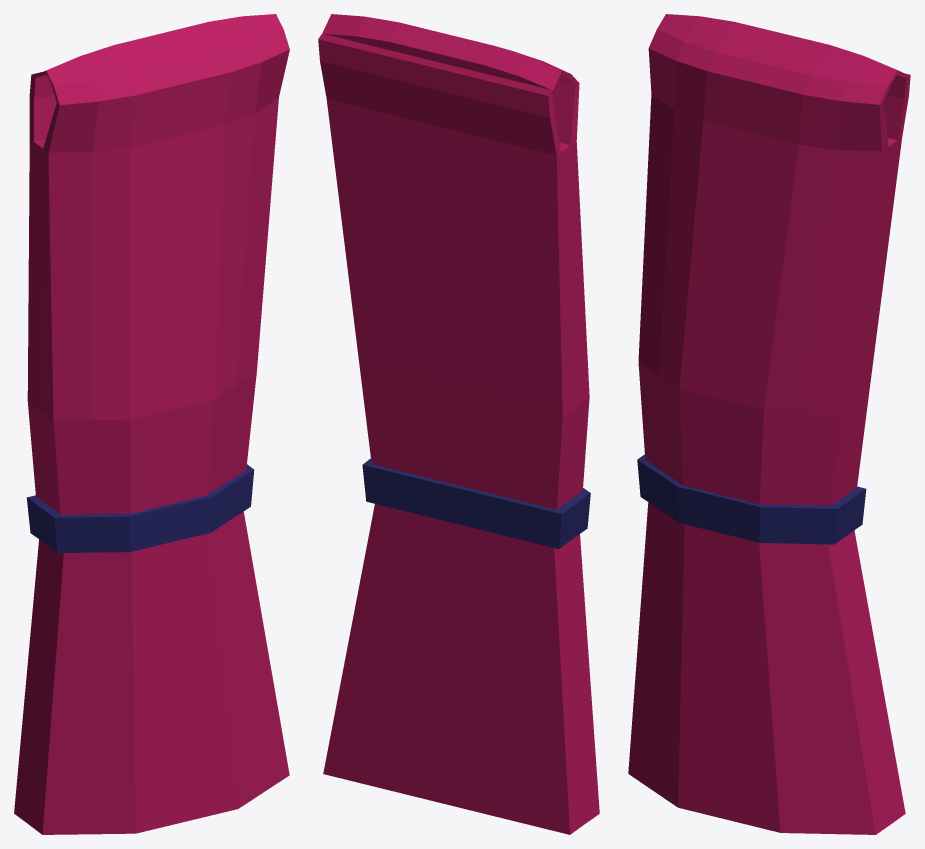
The model's file is Interior_CurtainLeft.fbx.
The picture shows the model from 3 angles, left to right: view 1: azimuth 30°, elevation 25°; view 2: azimuth 150°, elevation 25°; view 3: azimuth 330°, elevation 25°; orthographic projection.
Visible parts, largest first — view 1: Cylinder.150; view 2: Cylinder.150; view 3: Cylinder.150.
Boxes of the visible parts, x1,y1,x2,y2 form: Cylinder.150: (14,14,289,834); Cylinder.150: (318,14,599,834); Cylinder.150: (628,14,910,834).
Size of the model in its own units: 47.36 by 136 by 17.53.
